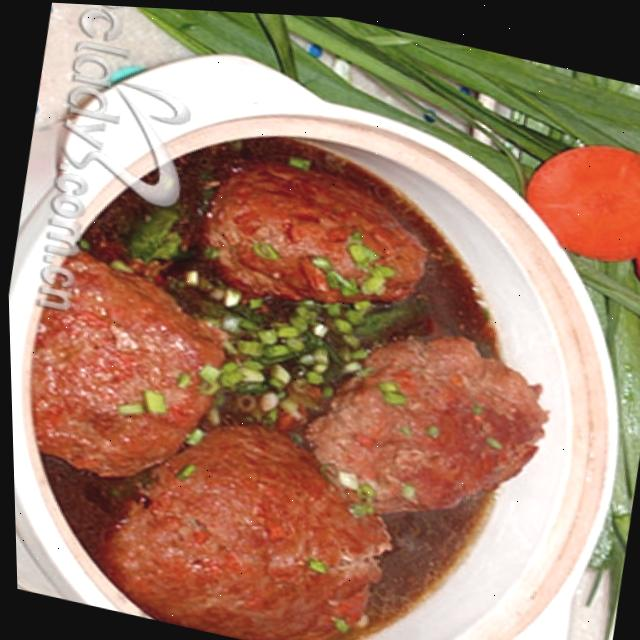猪肉菜式: (1, 39, 640, 640)
